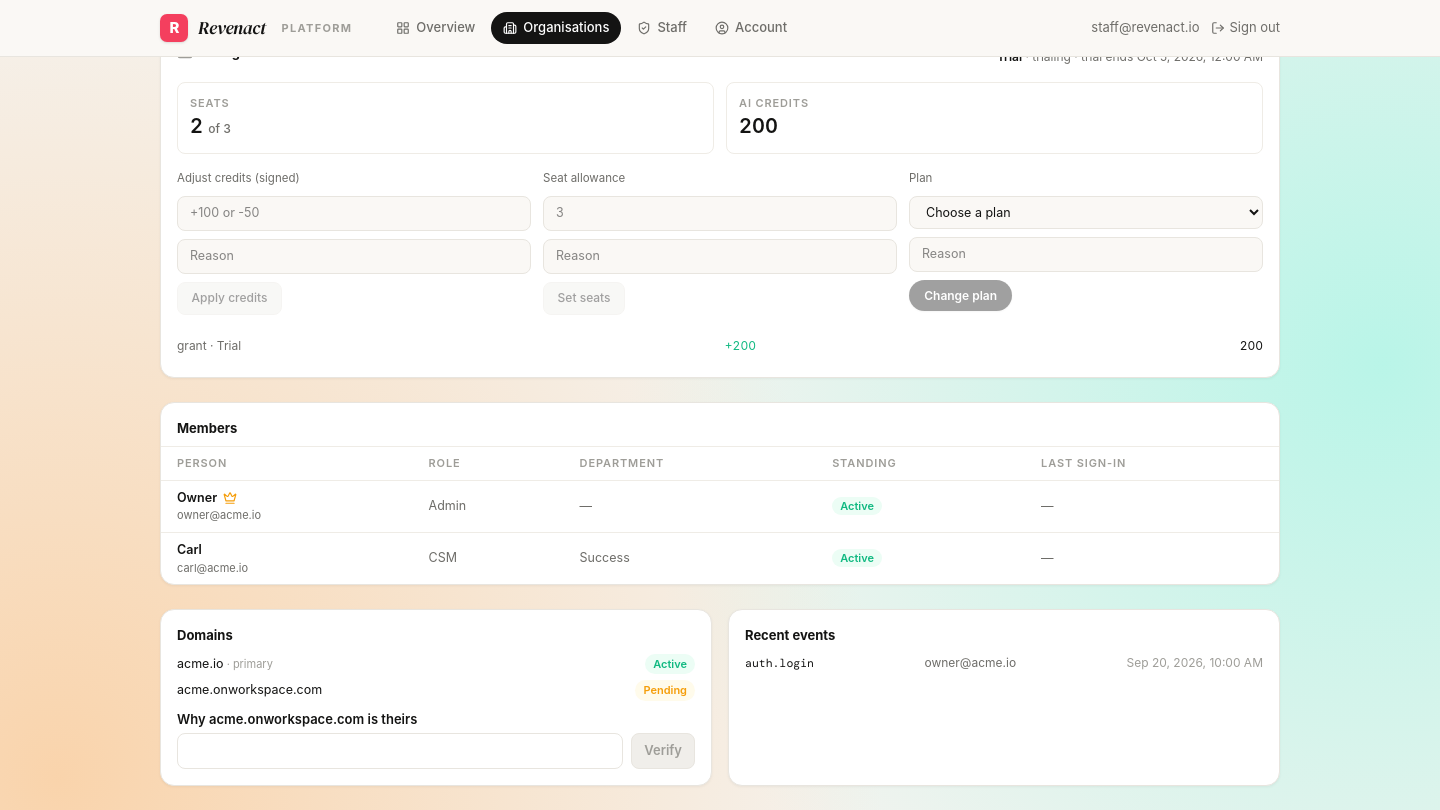
Test: Platform portal › verifies a domain that cannot carry DNS, with a reason
(page scrolled)
Expected: the number of buttons "Verify" is 1, [631,733,695,769]
Expected: the button with aria-label "Verify acme.onworkspace.com" is disabled, [631,733,695,769]
In the field labelled "Why acme.onworkspace.com is theirs": (400, 751) [177,733,623,769], type "Workspace admin confirmed on a call"
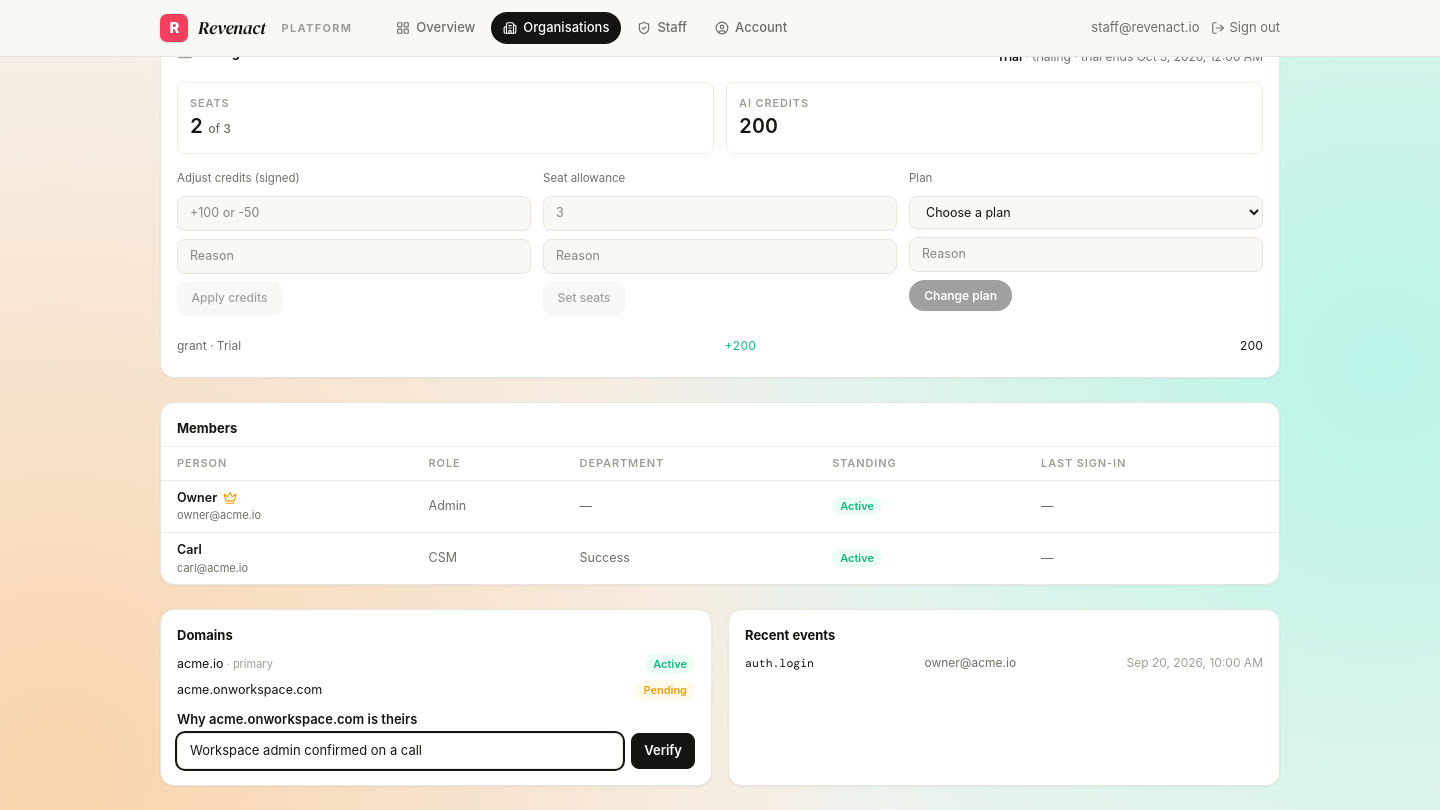
Click the button with aria-label "Verify acme.onworkspace.com": click(663, 751) [631,733,695,769]
(page scrolled)
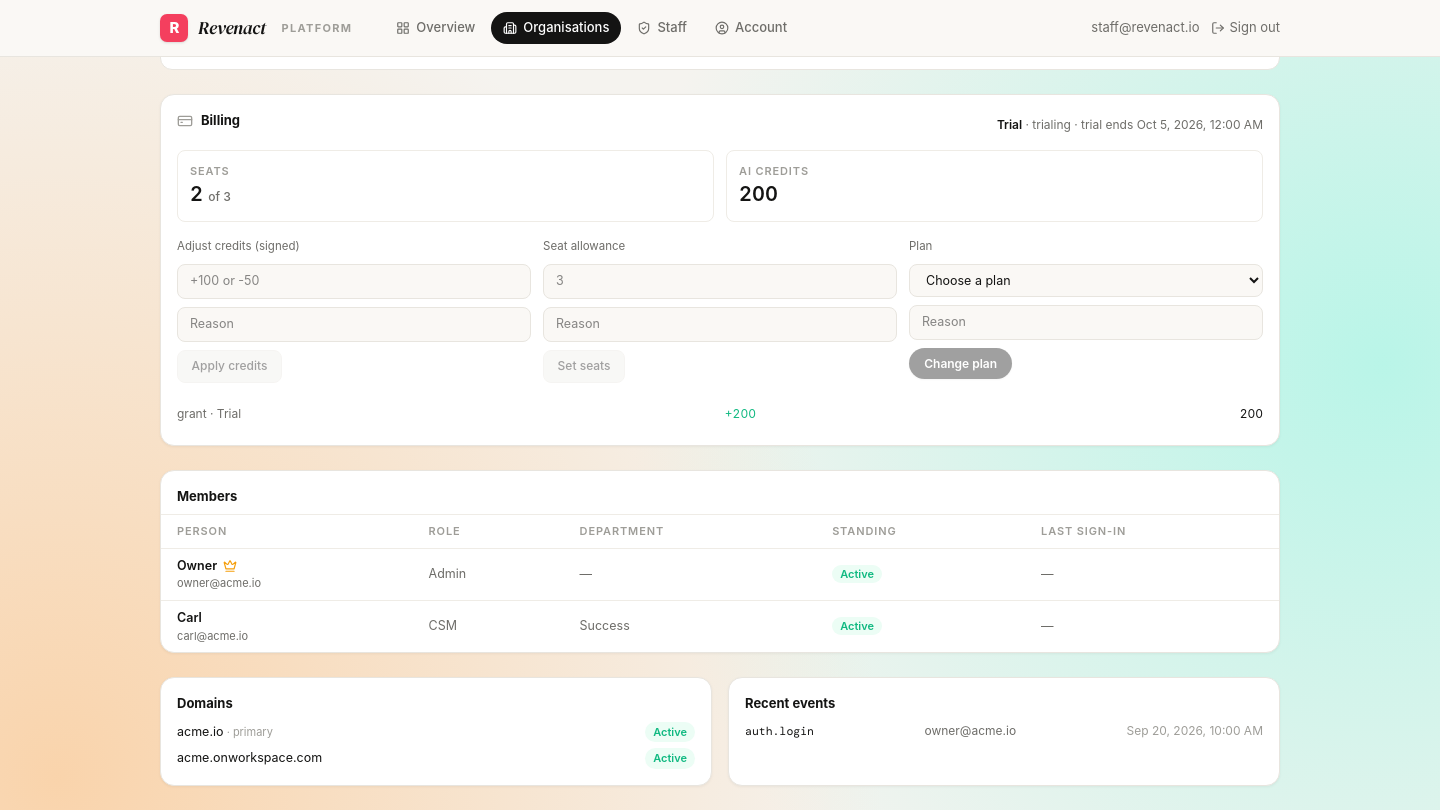
Expected: the button "Verify" is gone
